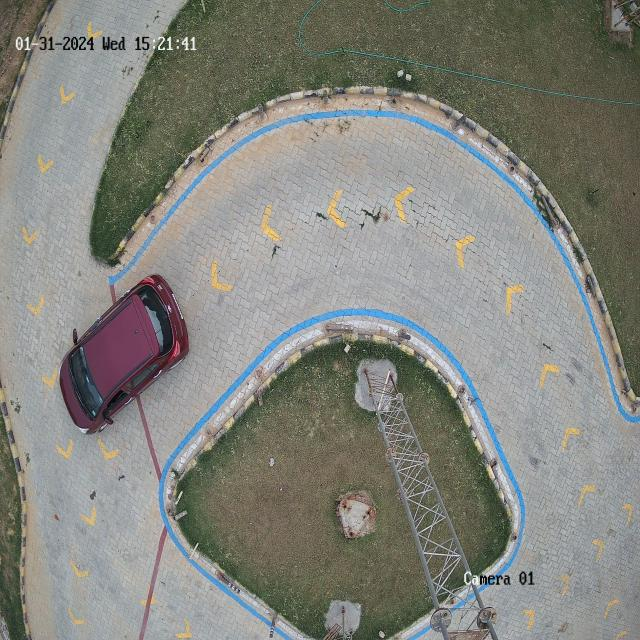car: (60, 275, 189, 433)
